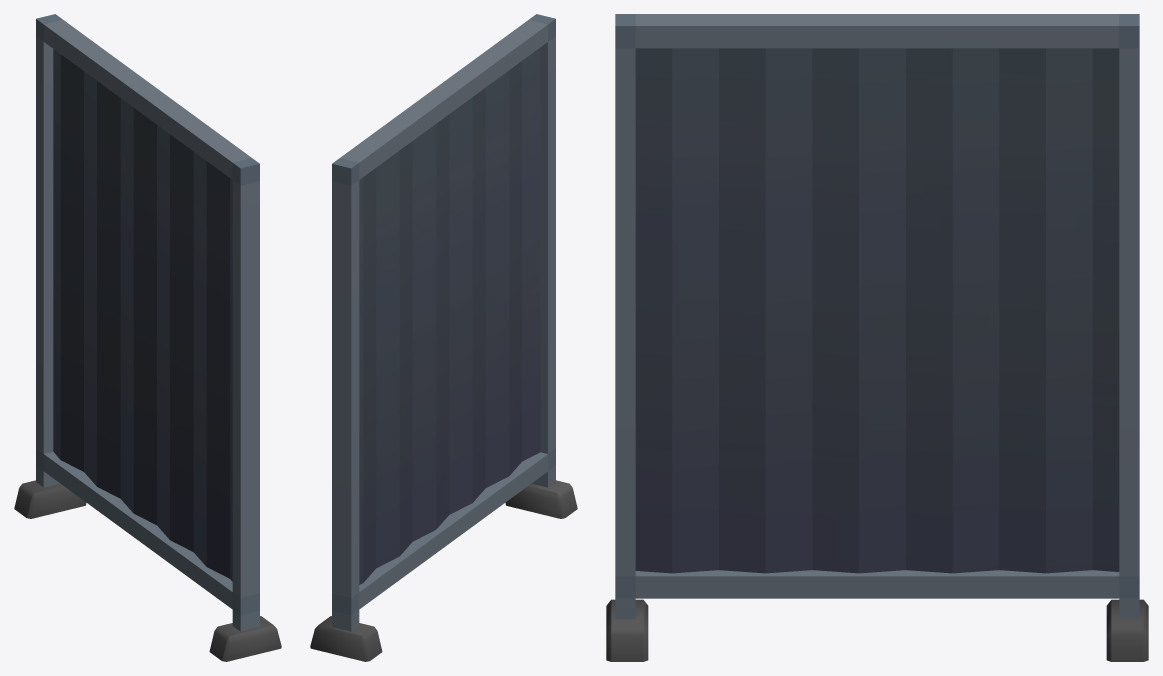
File: Barier_2_4.fbx
3 renders of one model, left to right at view 1: azimuth 30°, elevation 25°; view 2: azimuth 150°, elevation 25°; view 3: azimuth 270°, elevation 25°, orthographic. The views are drawn at different scales.
Parts seen in each view (by area): view 1: Barier_2_4; view 2: Barier_2_4; view 3: Barier_2_4.
Part boxes in pixels (bbox=[...]): Barier_2_4: bbox=[14, 14, 281, 661]; Barier_2_4: bbox=[310, 14, 577, 661]; Barier_2_4: bbox=[606, 14, 1148, 661].
Bounding box in the file's own units: 34.35 × 268 × 211.
